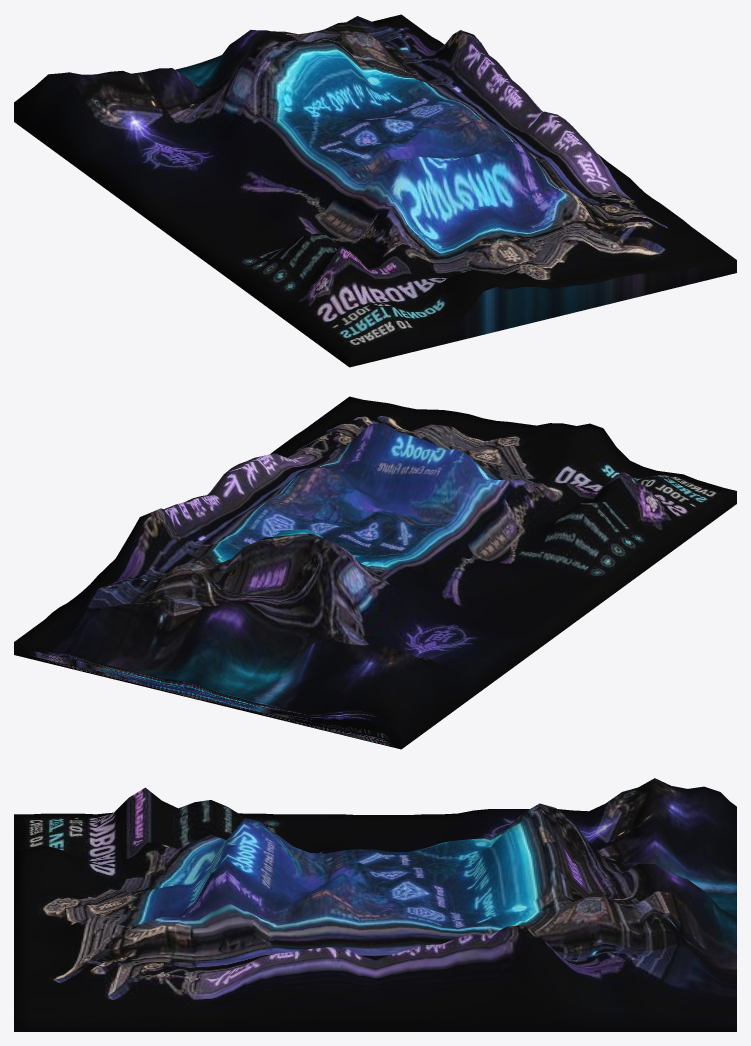
The model's file is CAREER_01_Tool_07_Signboard.glb.
3 renders of one model, top to bottom at view 1: azimuth 30°, elevation 25°; view 2: azimuth 150°, elevation 25°; view 3: azimuth 270°, elevation 25°, orthographic. The views are drawn at different scales.
Parts seen in each view (by area): view 1: CAREER_01_Tool_07_Signboard; view 2: CAREER_01_Tool_07_Signboard; view 3: CAREER_01_Tool_07_Signboard.
Boxes of the visible parts, x1,y1,x2,y2 form: CAREER_01_Tool_07_Signboard: [14, 14, 736, 367]; CAREER_01_Tool_07_Signboard: [14, 396, 736, 749]; CAREER_01_Tool_07_Signboard: [14, 778, 736, 1031].
Size of the model in its own units: 2 by 0.51 by 3.
Materials: 1 (1 with a texture image).
